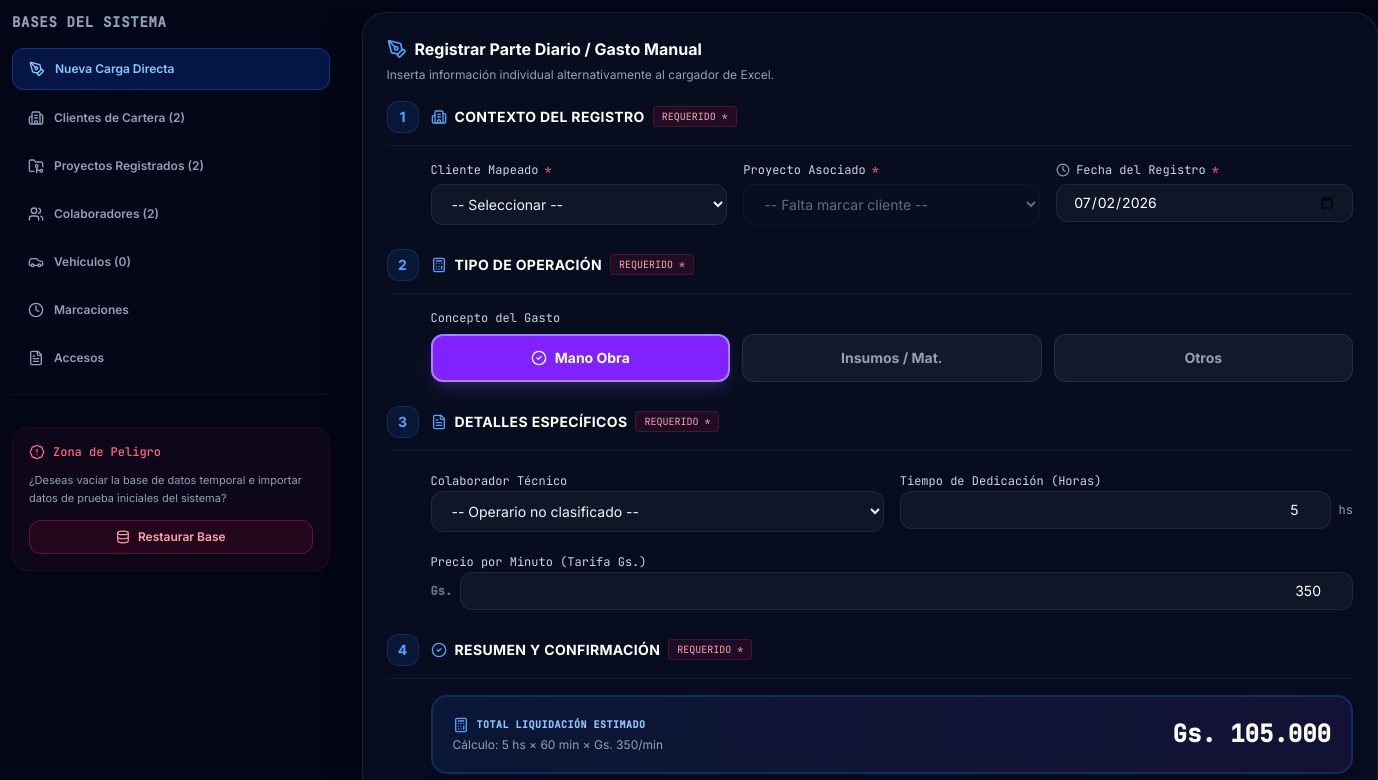
AdminPanel › Form State Management › should update precioUnitario when selecting colaborador
The image size is (1378, 780).
Select a colaborador
Select "Juan Pérez (Montador)" in the dropdown below "Colaborador Técnico" at (657, 511), box [430,490,884,532]
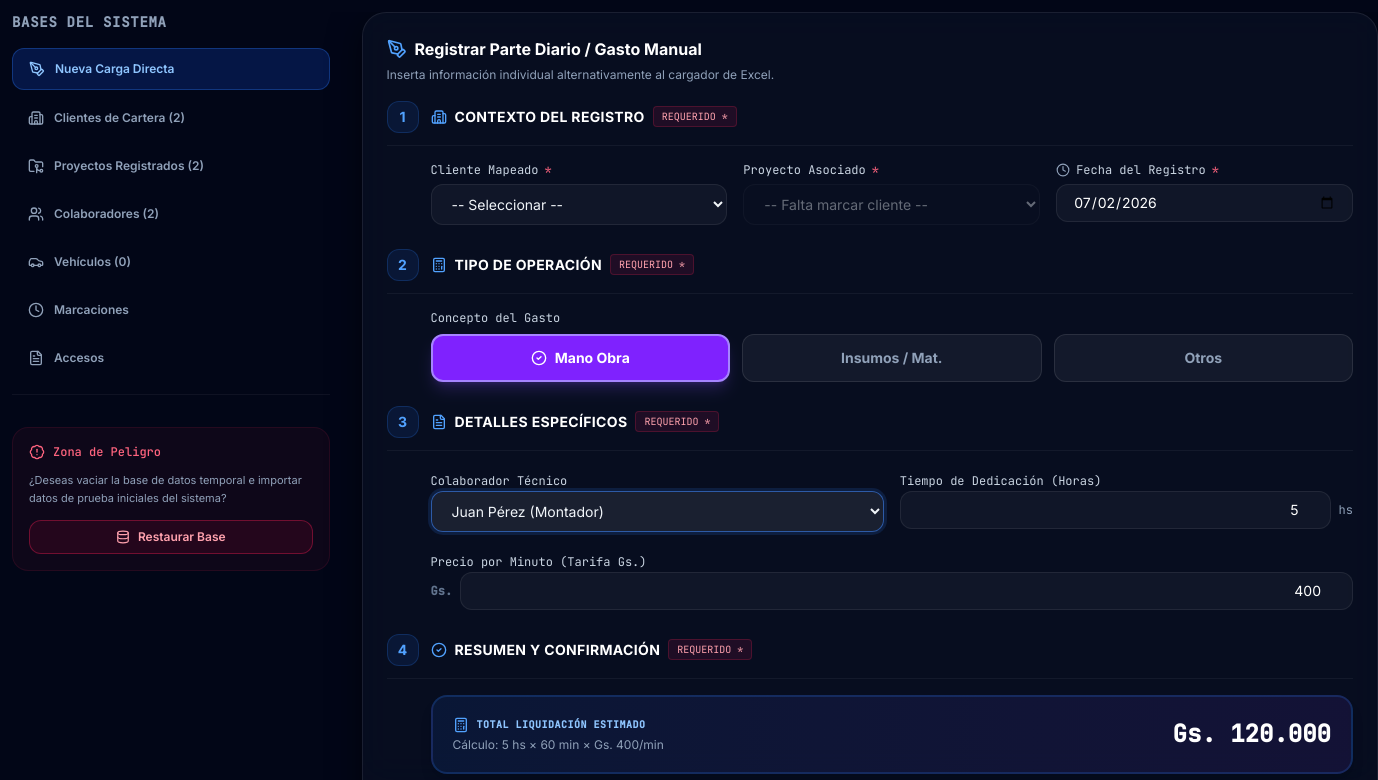
Check: the number field below "Precio por Minuto (Tarifa Gs.)" holds "400", box [460,572,1353,610]
